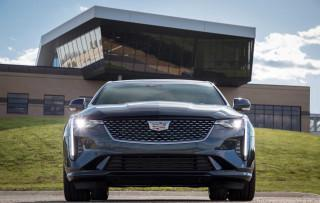cadillac: (143, 117, 174, 134)
